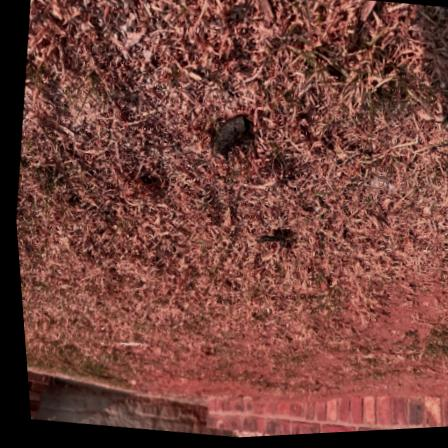dog-poop: (205, 115, 247, 162), (245, 221, 291, 260)
